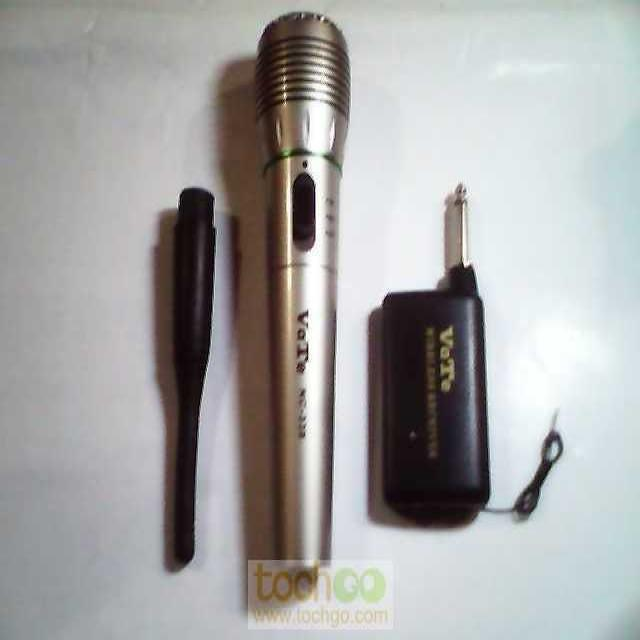microphone: (249, 12, 353, 572)
